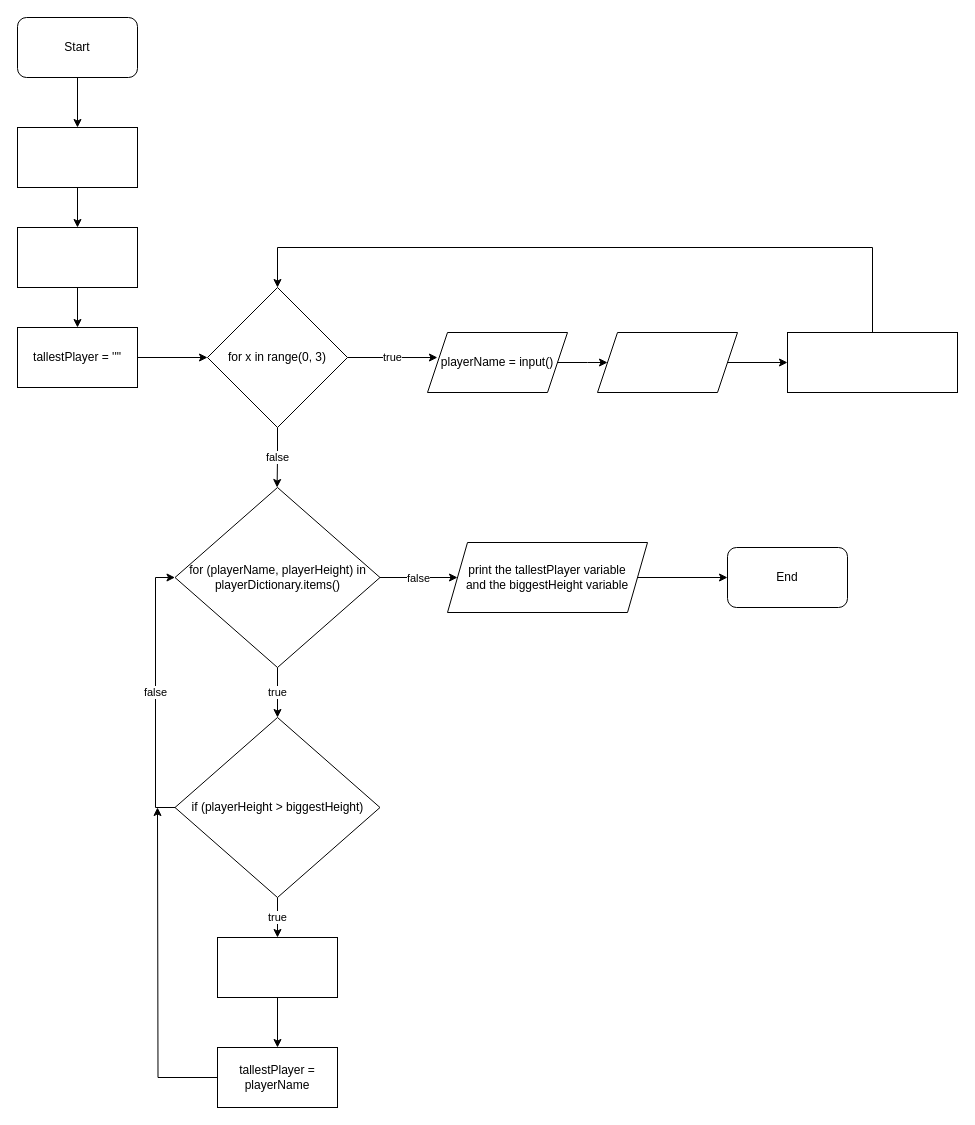
The diagram is 975 pixels wide and 1125 high, and some of its shapes have lost their labels. The box of each missing label's shape, as (x1, y1, x2, y2) in pixels:
biggestHeight = 0: (16, 226, 138, 288)
biggestHeight = playerHeight: (216, 936, 338, 998)
playerDictionary = {}: (16, 126, 138, 188)
playerDictionary[playerName] = playerHeight: (786, 332, 958, 392)
playerHeight = input(): (596, 332, 738, 392)
